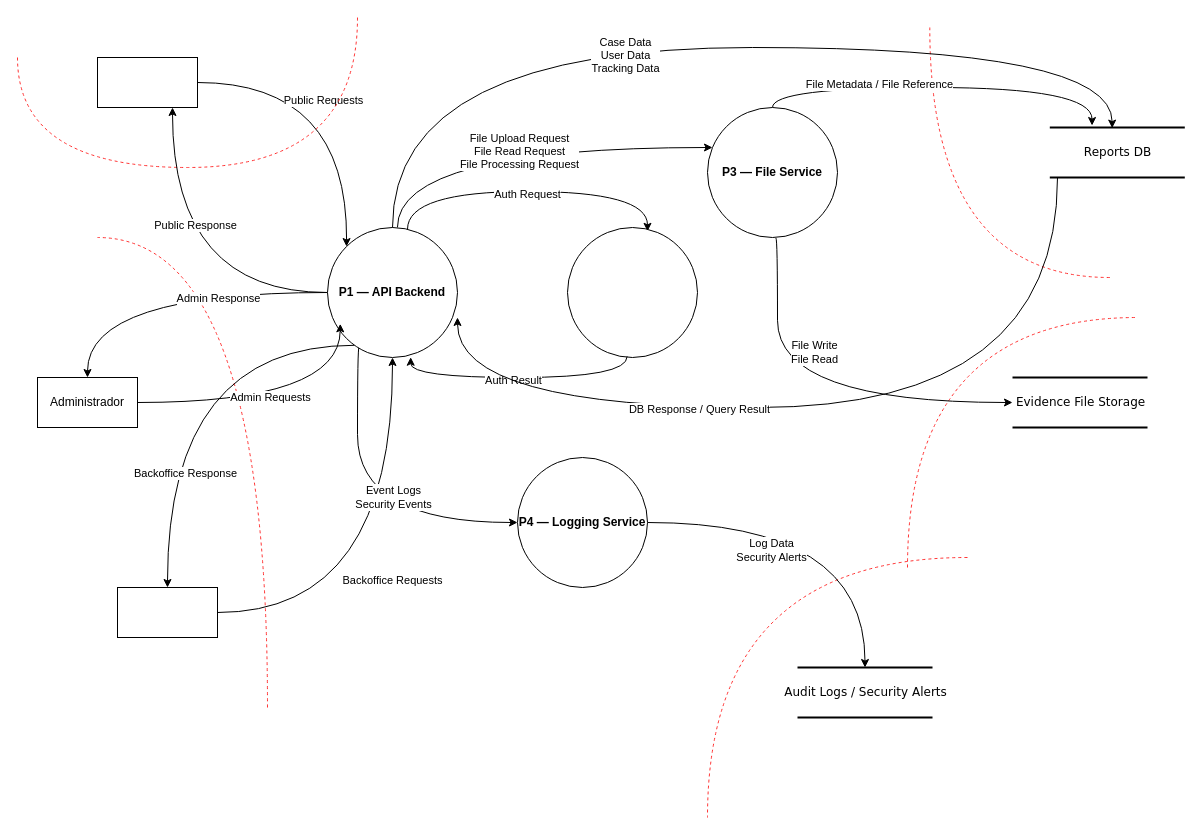
Some shapes in this 1203 by 835 pixel diagram are drawn without their labels. Each missing label, with the centre of its shape:
Analista: [167,612]
Denunciante Anónimo: [147,82]
P2 — Authentication Service: [632,292]
